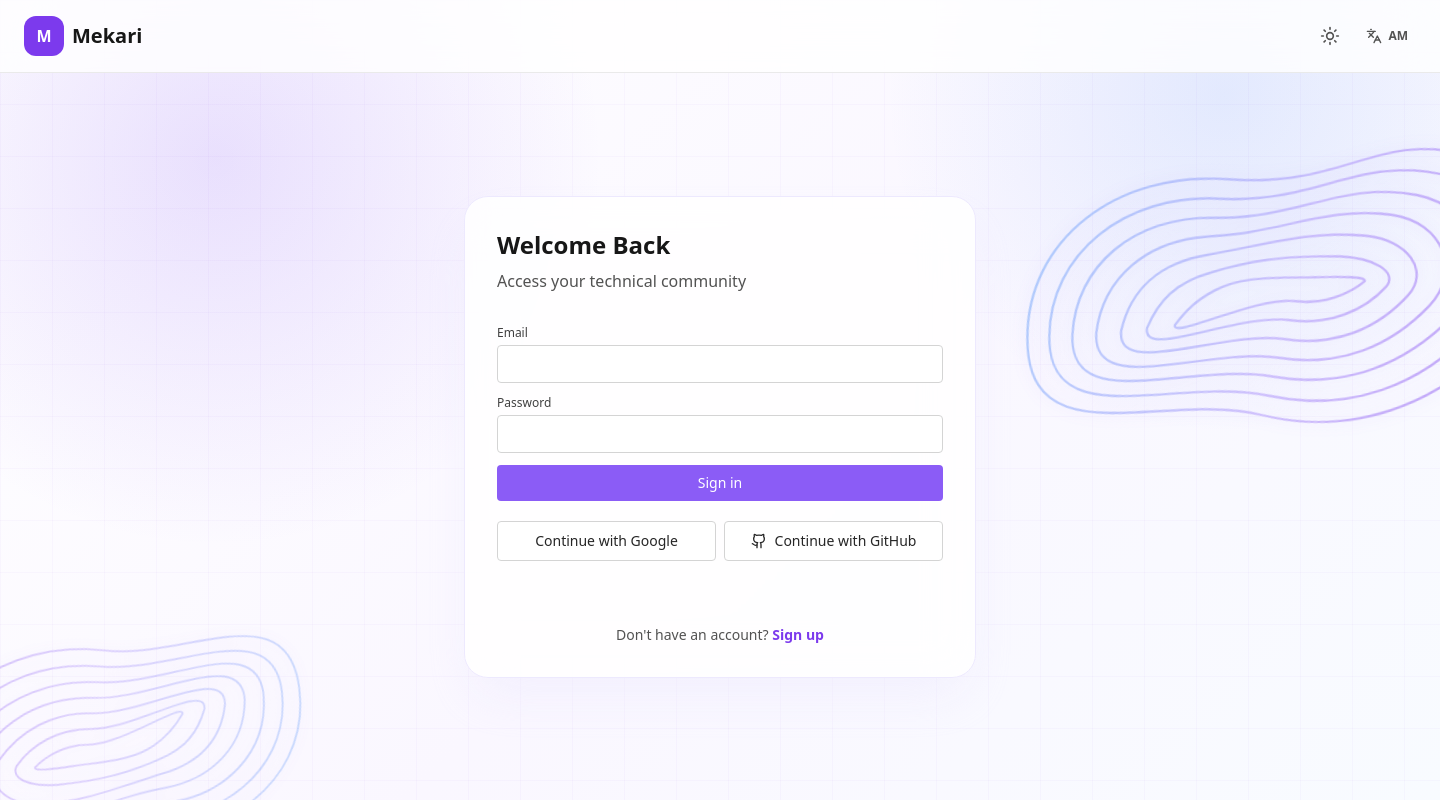
Mekari authentication › shows the stored ban reason when a banned user tries to sign in
Step 1. Type "banned@example.com" into the field → (720, 364), box [497,345,943,383]
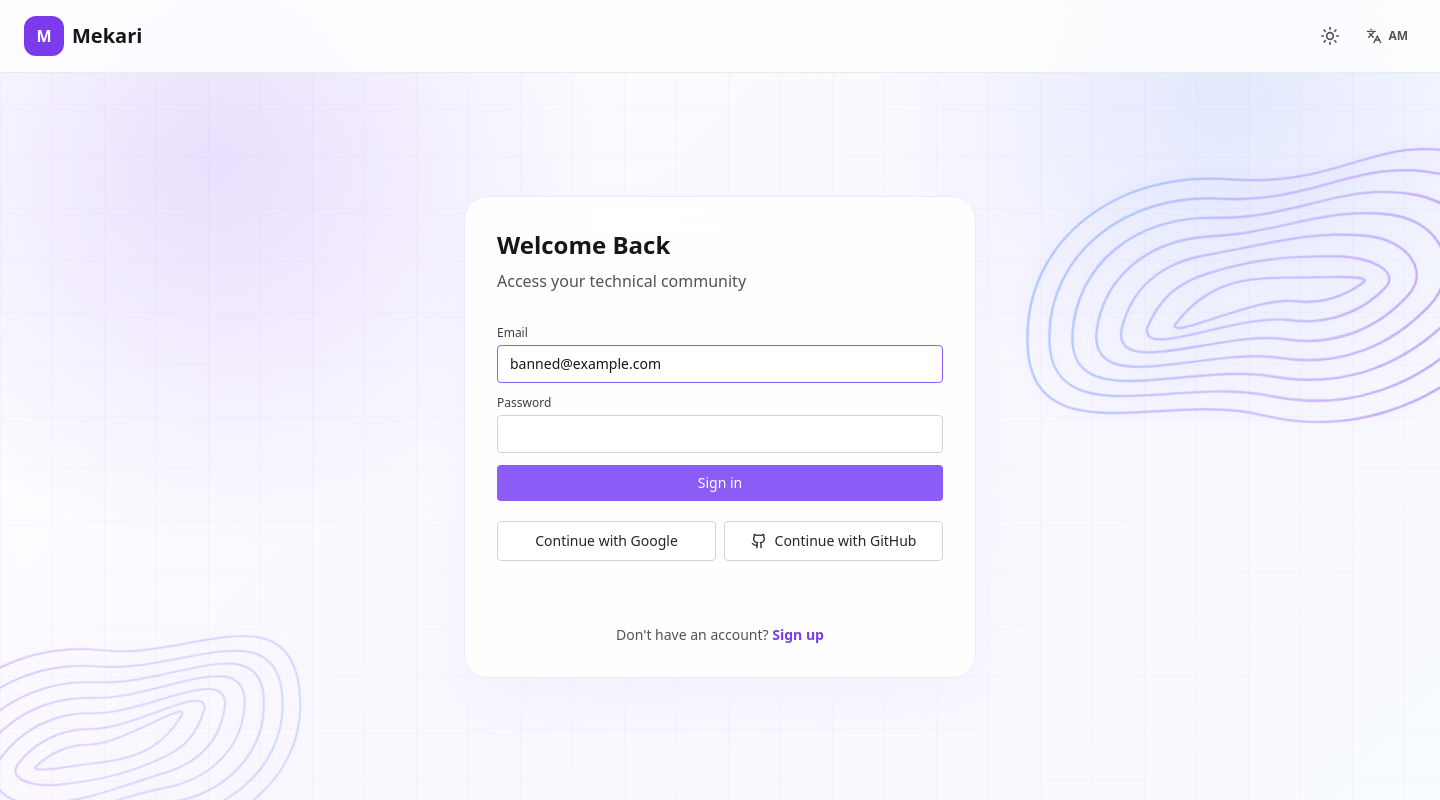
Step 2. Type "StrongPass123!" into the password field → (720, 434), box [497,415,943,453]
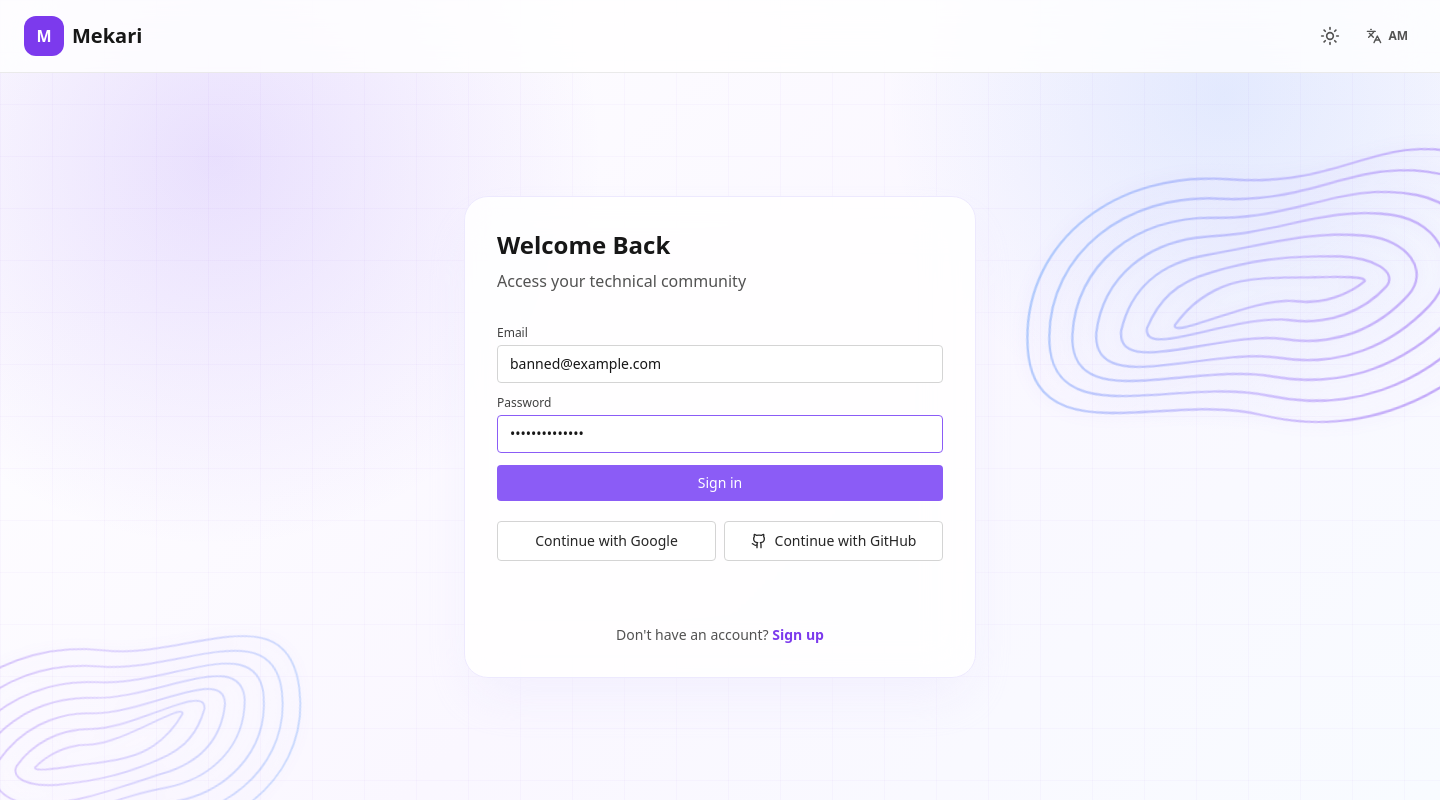
Step 3. Click the button "Sign in" → (720, 483), box [497,465,943,501]
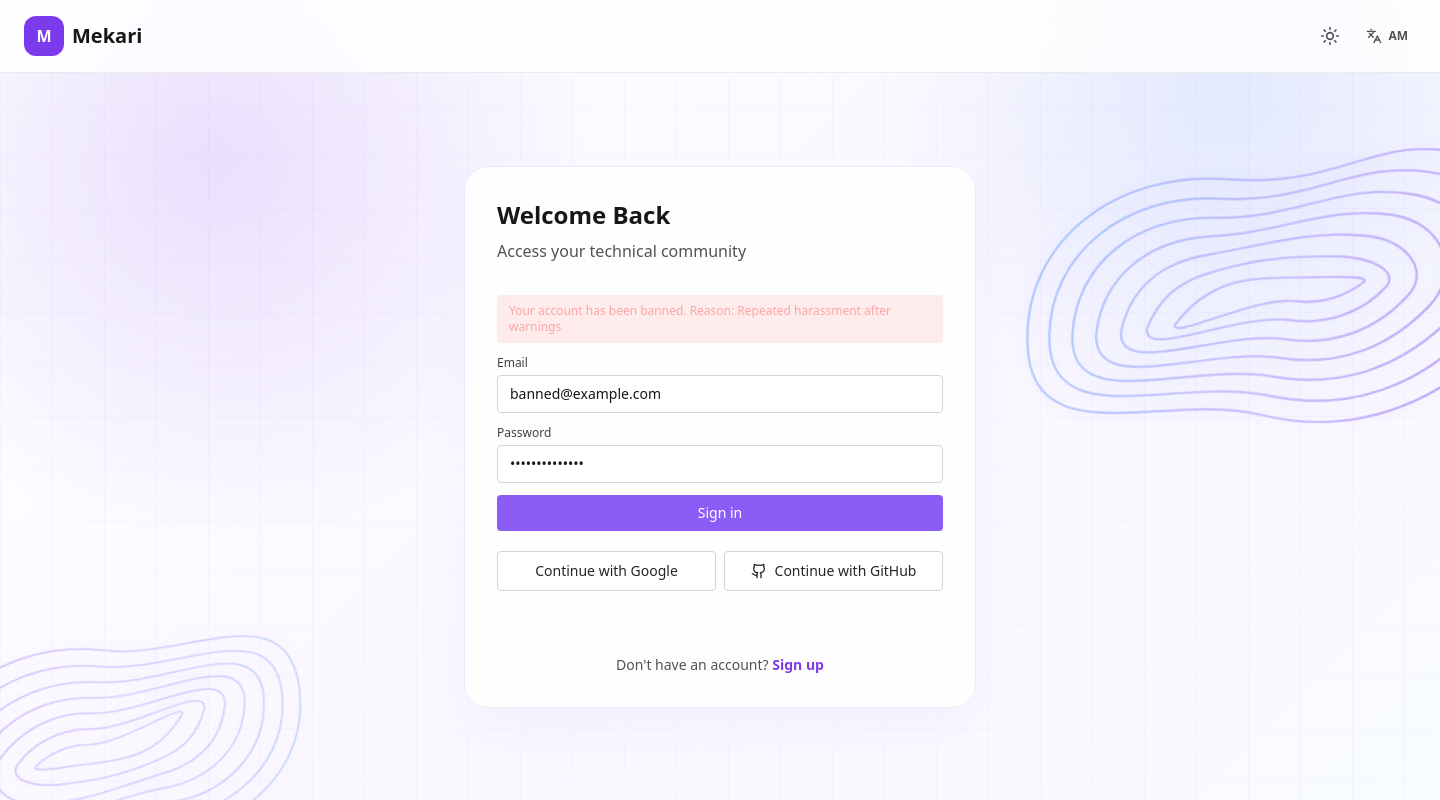
Expected: the text "Your account has been banned. Reason: Repeated harassment after warnings" is shown, [509,302,931,334]
